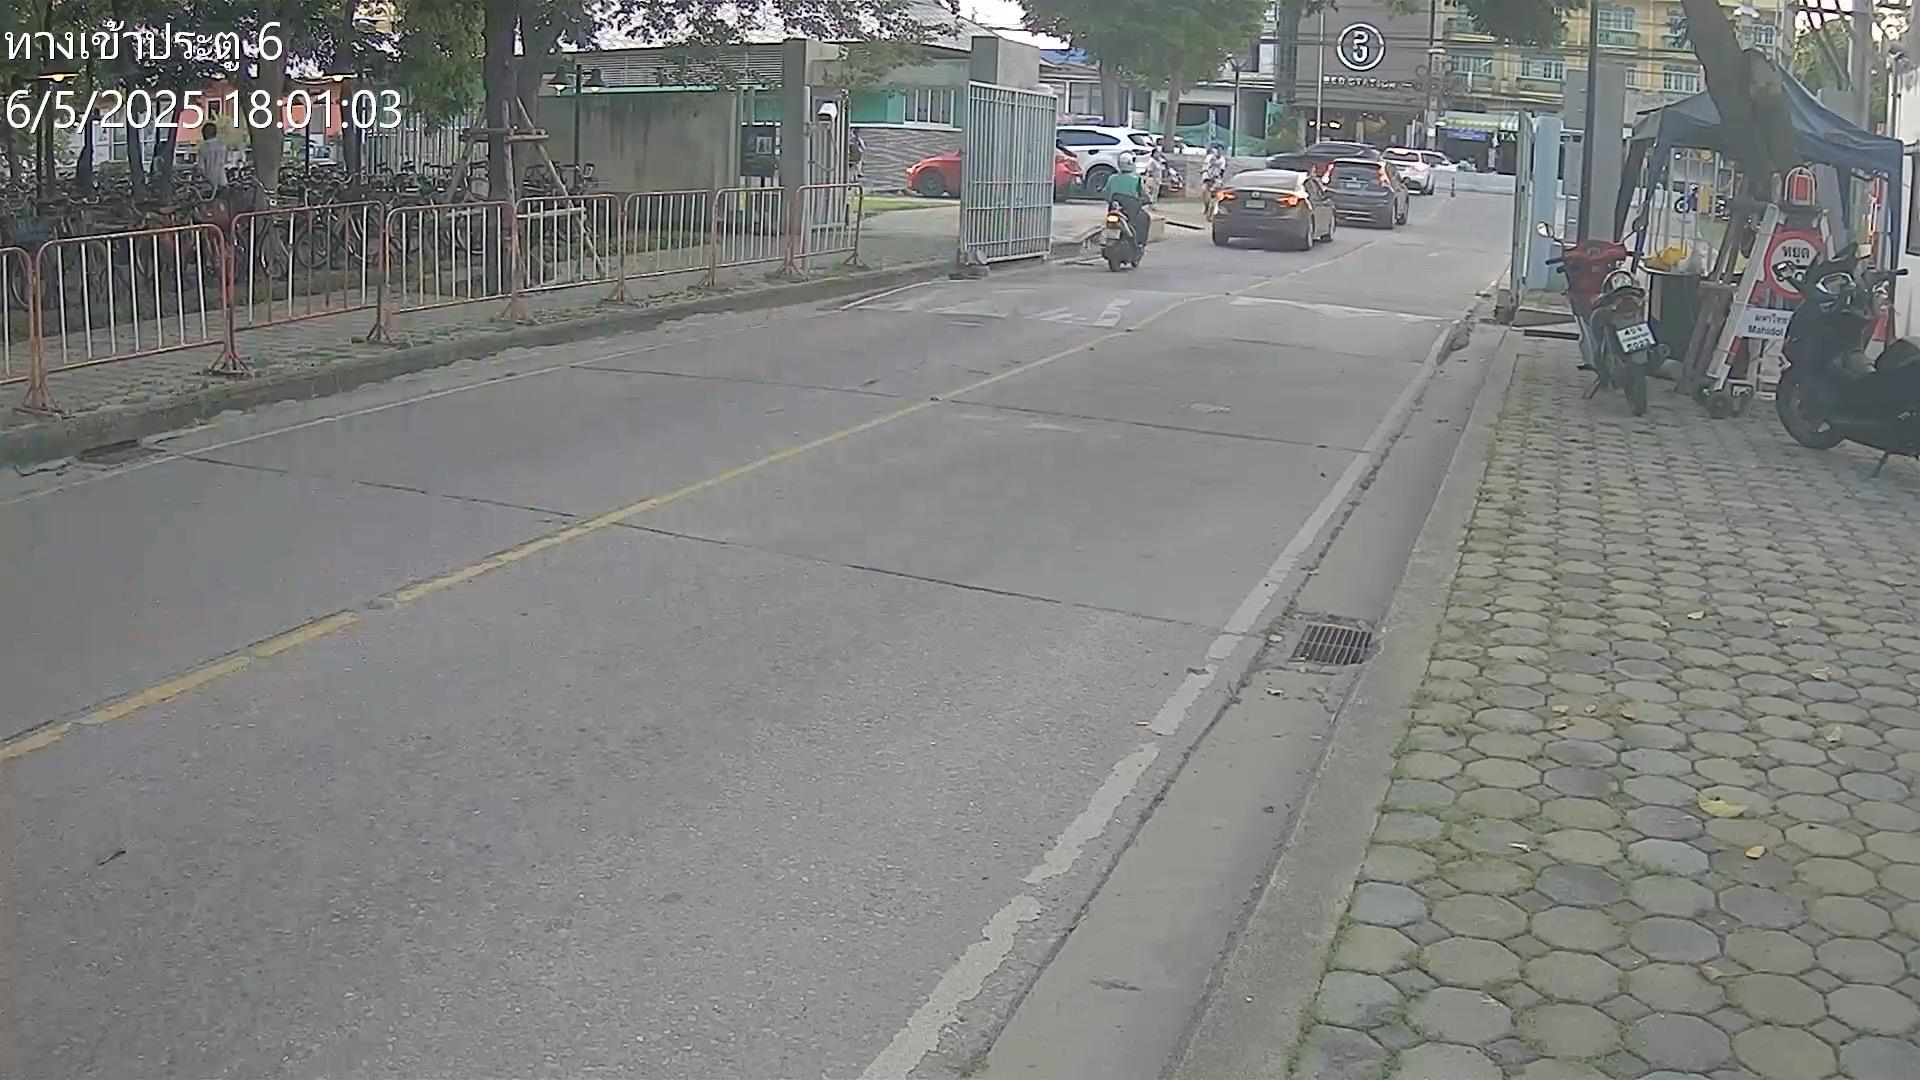With-Helmet: (1117, 149, 1138, 173)
